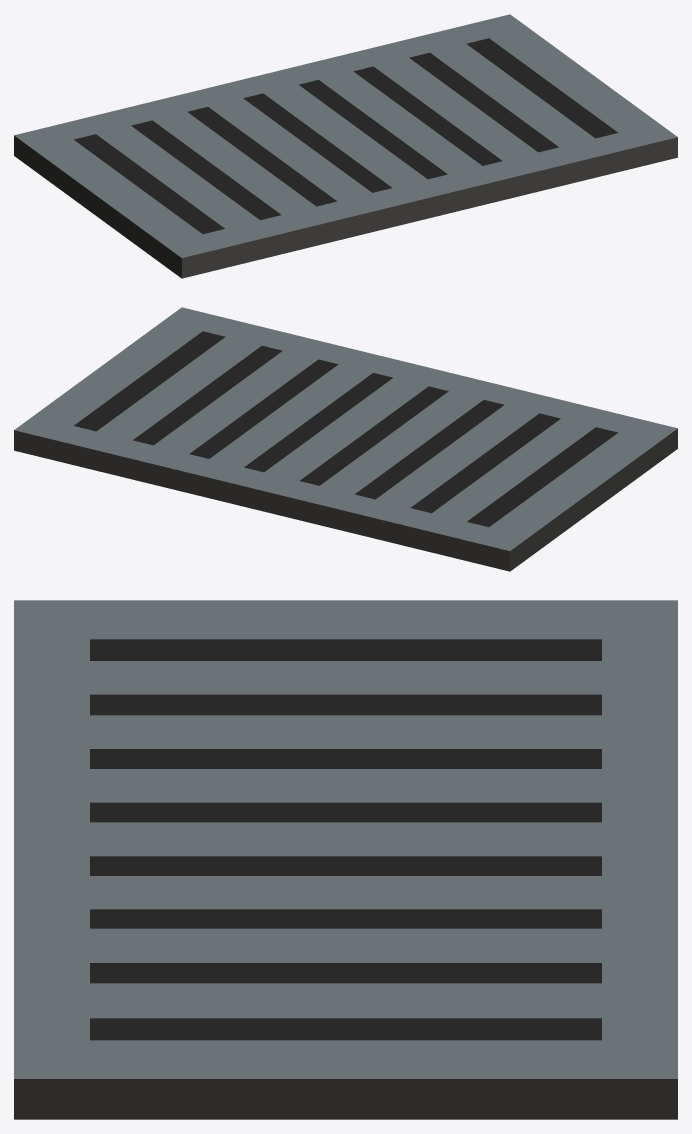
Rendered from SA_Env_RoadGrate.gltf.
3 renders of one model, top to bottom at view 1: azimuth 30°, elevation 25°; view 2: azimuth 150°, elevation 25°; view 3: azimuth 270°, elevation 25°, orthographic. The views are drawn at different scales.
Visible parts, largest first — view 1: SA_Env_RoadGrate; view 2: SA_Env_RoadGrate; view 3: SA_Env_RoadGrate.
Boxes of the visible parts, box(x1,y1,x2,y2) form: SA_Env_RoadGrate: box(14, 14, 677, 278); SA_Env_RoadGrate: box(14, 307, 677, 571); SA_Env_RoadGrate: box(14, 600, 677, 1119).
Size of the model in its own units: 2.19 by 0.0865 by 1.29.
1 material, 1 textured.
